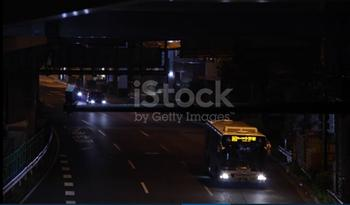bus: (197, 114, 285, 198)
car: (85, 85, 112, 111)
